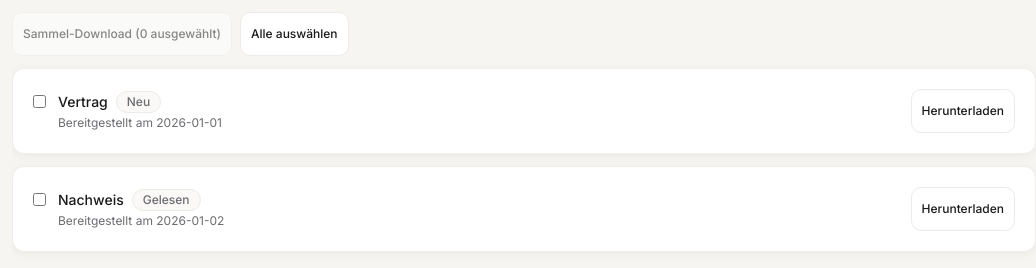
Scenario: DocumentBundleList › shows an error when the bundle is refused
Step 1. Click the checkbox labelled "Vertrag Neu Bereitgestellt am 2026-01-01" → point(40, 102), box [33,95,46,108]
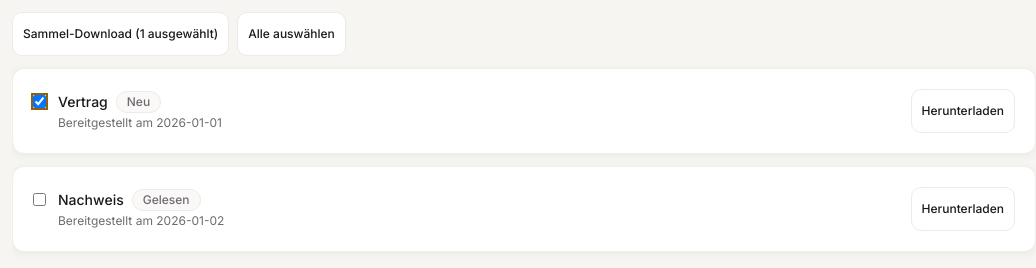
Step 2. Click the button "Sammel-Download (1 ausgewählt)" → point(121, 34), box [12,12,229,56]
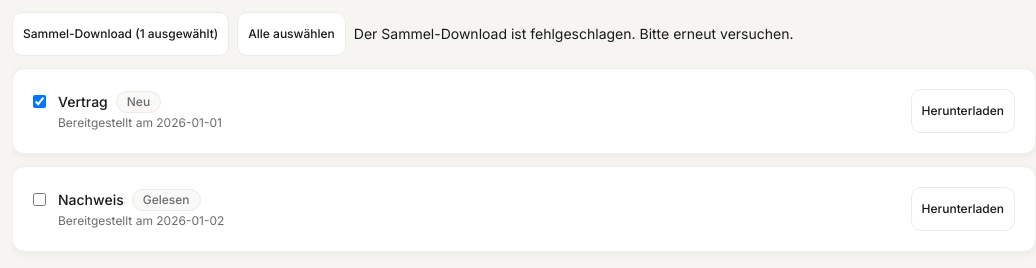
Now the message shows "Sammel-Download", box [354,25,794,42]
